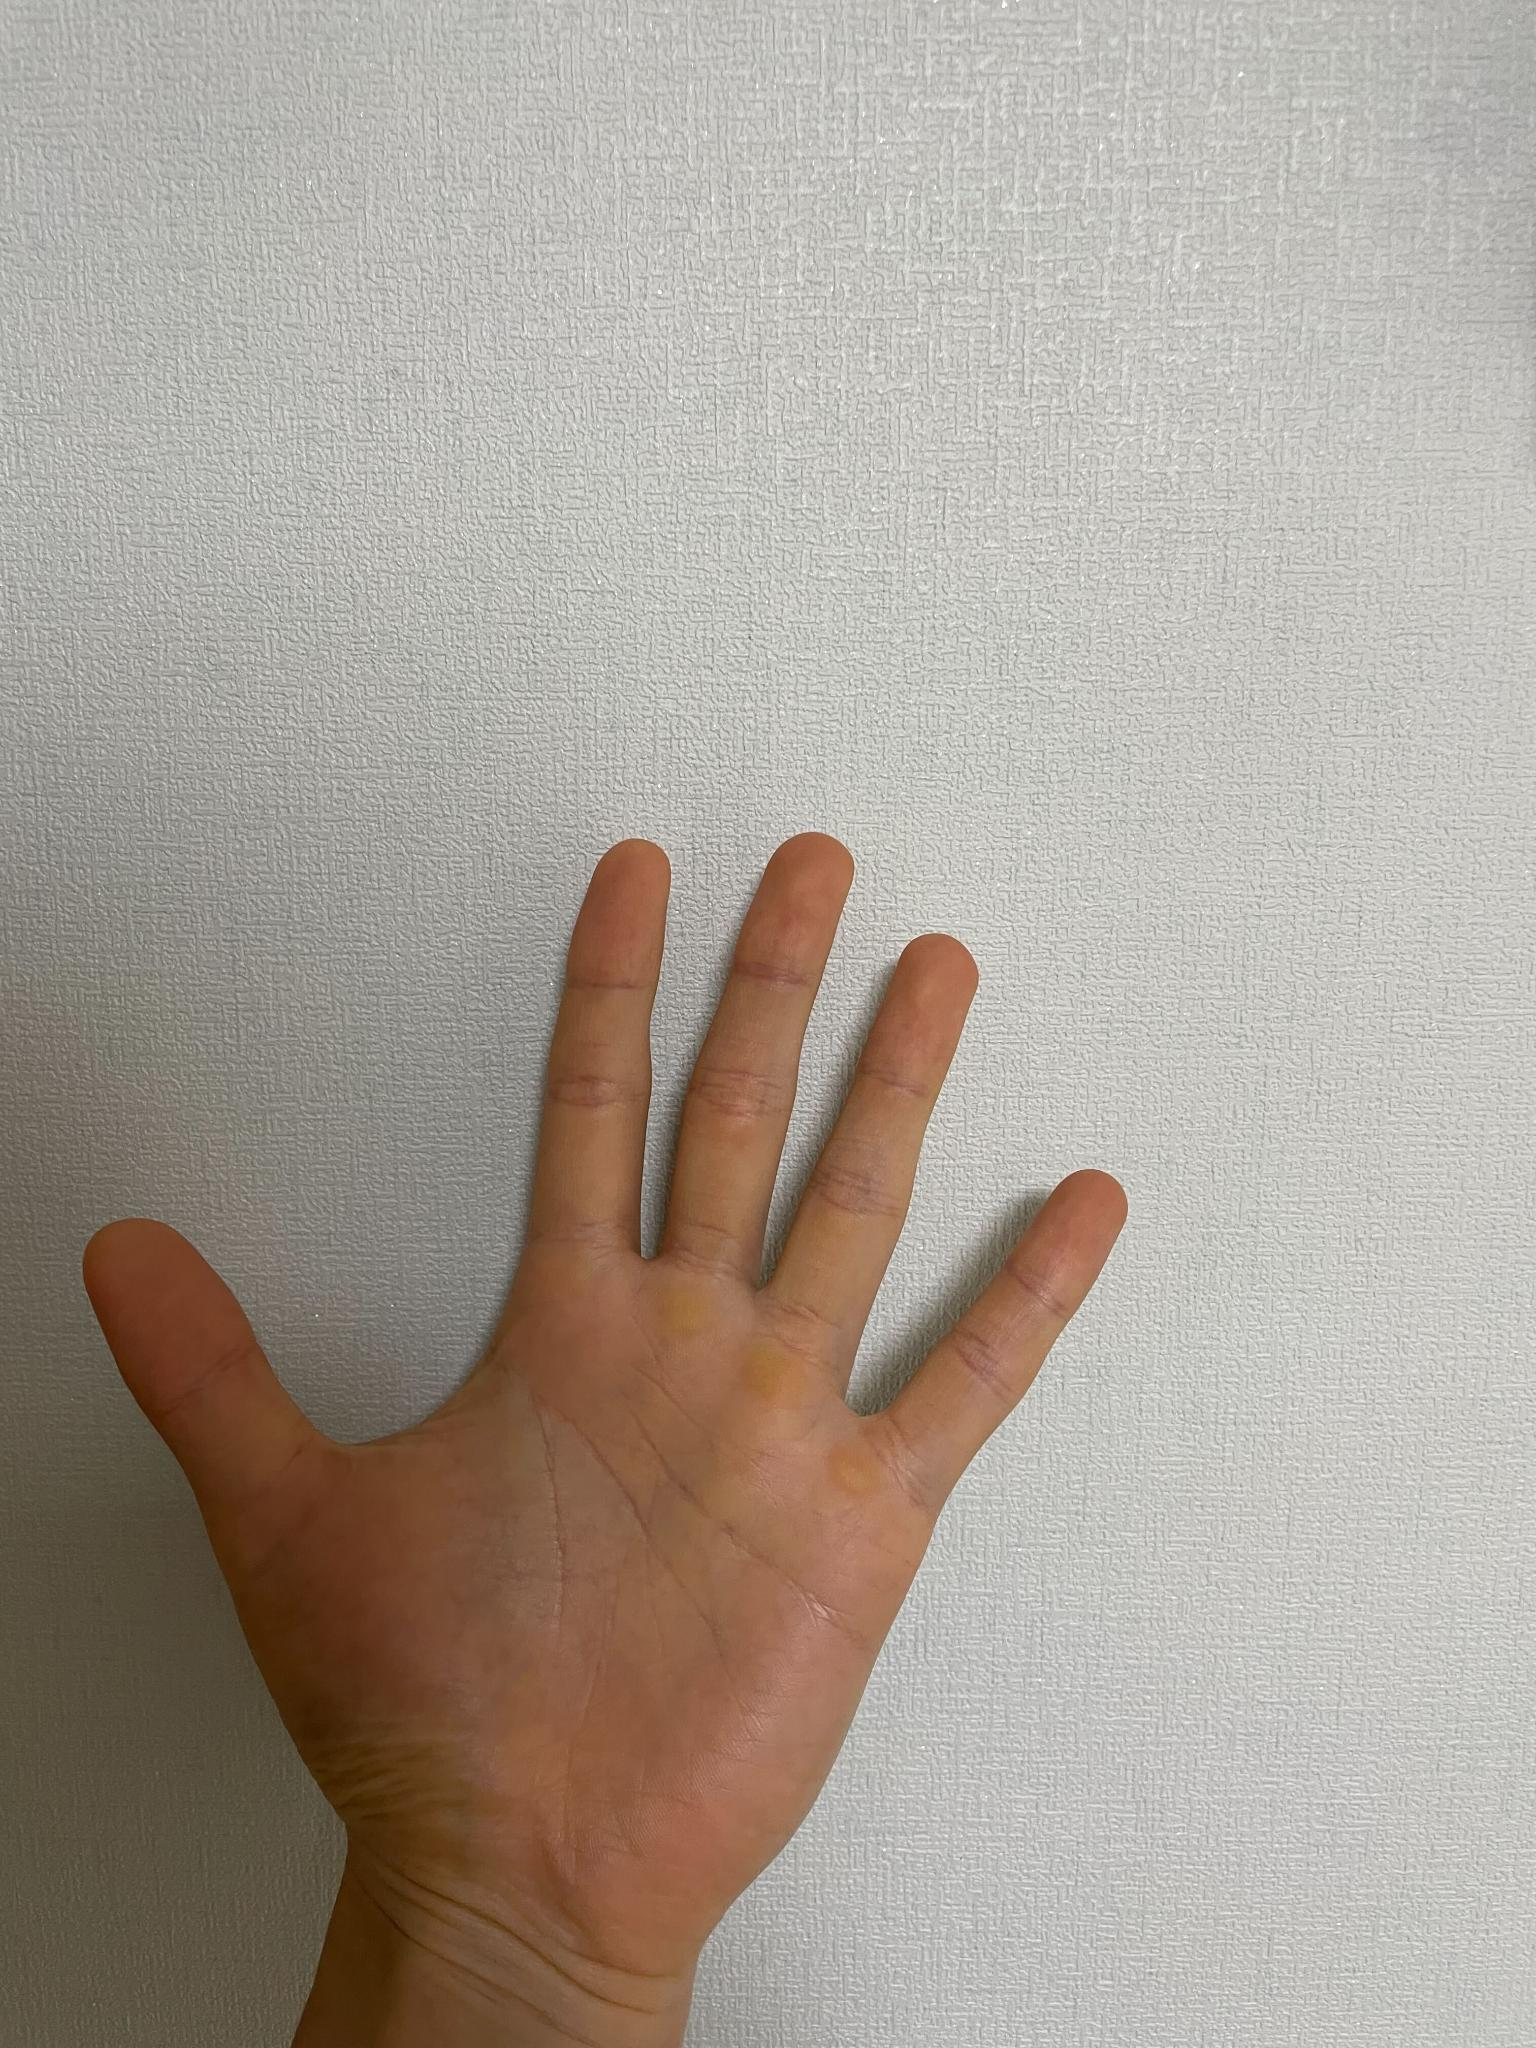open: (81, 822, 1136, 1987)
